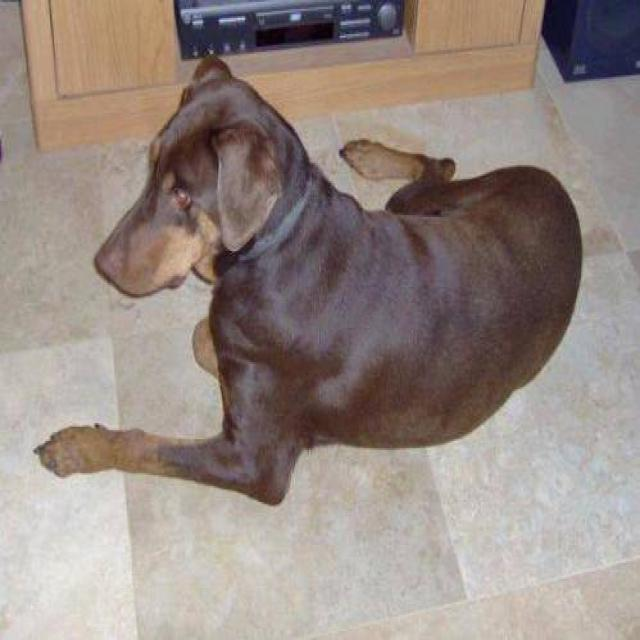Dog: (80, 34, 324, 318)
